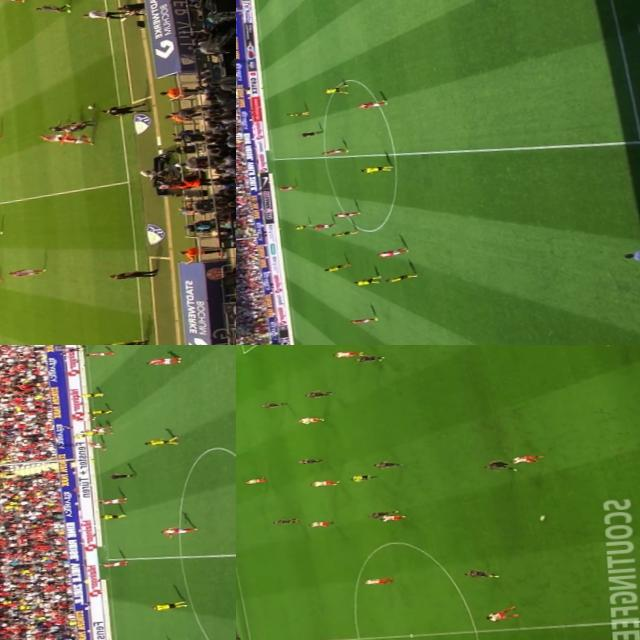ball: (84, 102, 95, 109), (536, 513, 544, 520), (95, 425, 103, 429)
player: (141, 354, 186, 368), (150, 598, 192, 612), (54, 132, 95, 146), (481, 607, 524, 620), (32, 1, 71, 14), (158, 524, 198, 536), (368, 458, 402, 472), (6, 264, 45, 276), (36, 131, 72, 143), (320, 260, 355, 272), (463, 568, 498, 580), (484, 459, 516, 472), (354, 96, 388, 108), (140, 436, 180, 446), (100, 558, 130, 570), (358, 162, 393, 172), (383, 272, 418, 282), (373, 246, 407, 256), (509, 454, 543, 464), (305, 519, 338, 529), (361, 509, 397, 518), (362, 576, 394, 586), (274, 514, 300, 526), (352, 275, 383, 285), (62, 120, 92, 130), (348, 314, 378, 324), (260, 398, 290, 408), (309, 478, 342, 487), (296, 456, 325, 466), (77, 389, 105, 399), (84, 348, 115, 357), (48, 122, 82, 130), (96, 496, 130, 504), (331, 349, 364, 357), (101, 511, 130, 520), (242, 474, 268, 484), (317, 146, 348, 154), (294, 415, 324, 423), (321, 86, 349, 94), (282, 109, 310, 117), (333, 209, 361, 217), (308, 220, 336, 228), (78, 427, 99, 437), (332, 228, 358, 236), (304, 390, 330, 398), (381, 512, 406, 520), (86, 439, 108, 448), (89, 408, 109, 416), (70, 415, 94, 421), (358, 354, 382, 360), (278, 183, 298, 190), (290, 223, 308, 230), (93, 426, 113, 432)
